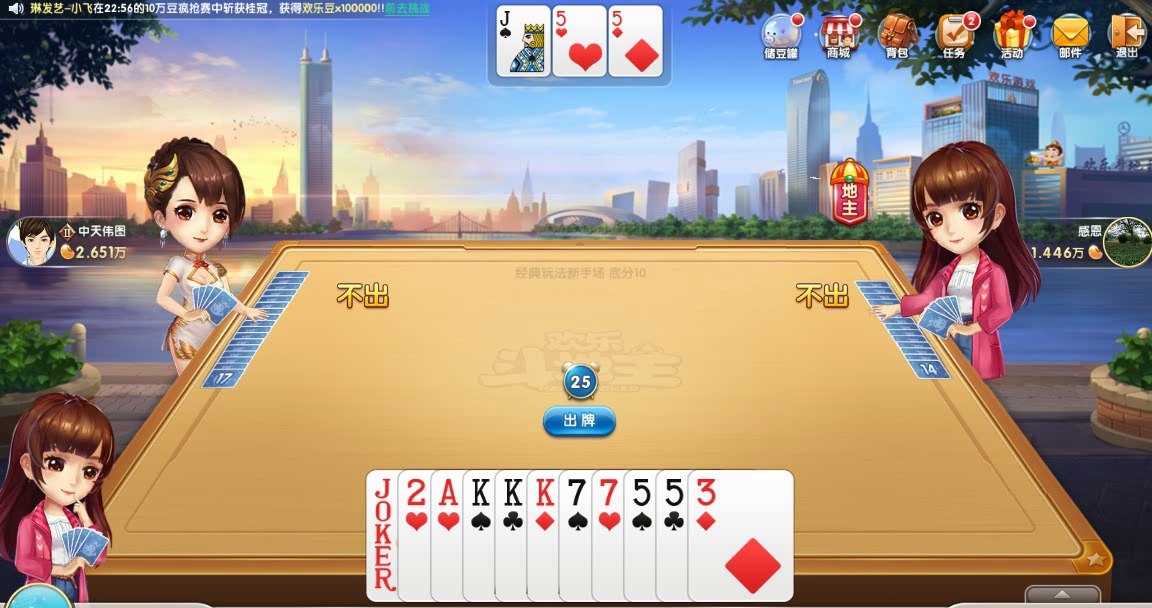11~4: (497, 5, 552, 76)
13~1: (526, 468, 632, 604)
13~2: (495, 468, 601, 604)
13~4: (463, 468, 569, 604)
14~3: (431, 468, 537, 604)
15~3: (396, 468, 502, 604)
18~4: (366, 468, 472, 604)
3~1: (688, 467, 794, 603)
5~1: (608, 5, 663, 76)
5~2: (656, 467, 762, 603)
5~3: (552, 5, 607, 76)
5~4: (624, 467, 730, 603)
7~3: (592, 468, 698, 604)
7~4: (558, 468, 664, 604)
